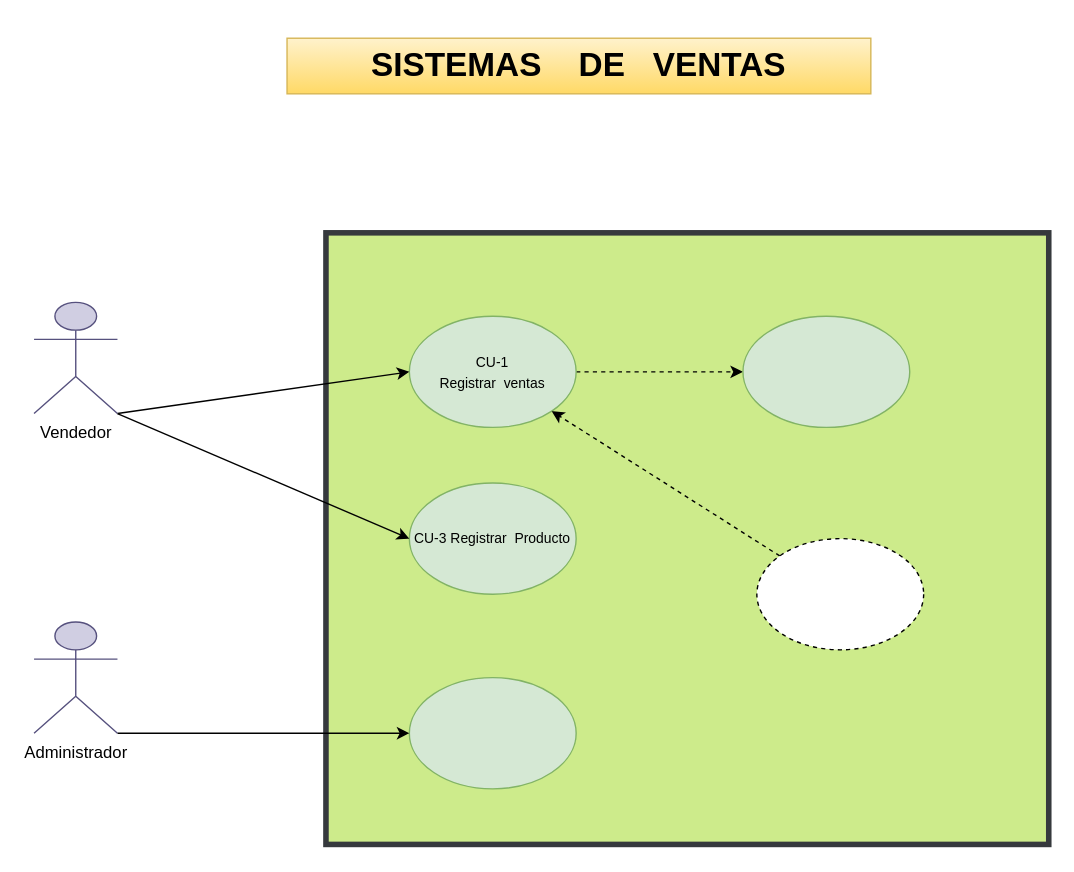
The diagram is 1074 pixels wide and 872 high, and some of its shapes have lost their labels. The centre of each missing label's shape, as x and y in pixels:
"CU-2 Consultar existencia" goes at (826,371).
"CU-4Consultar total vendido" goes at (492,732).
"CU-5Aplicar ventas por mayor (futuro)" goes at (839,593).
